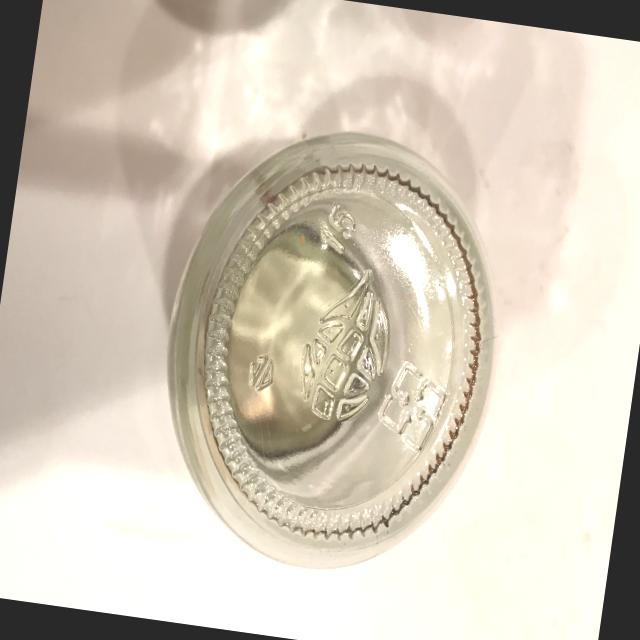Glass: (128, 91, 542, 604)
